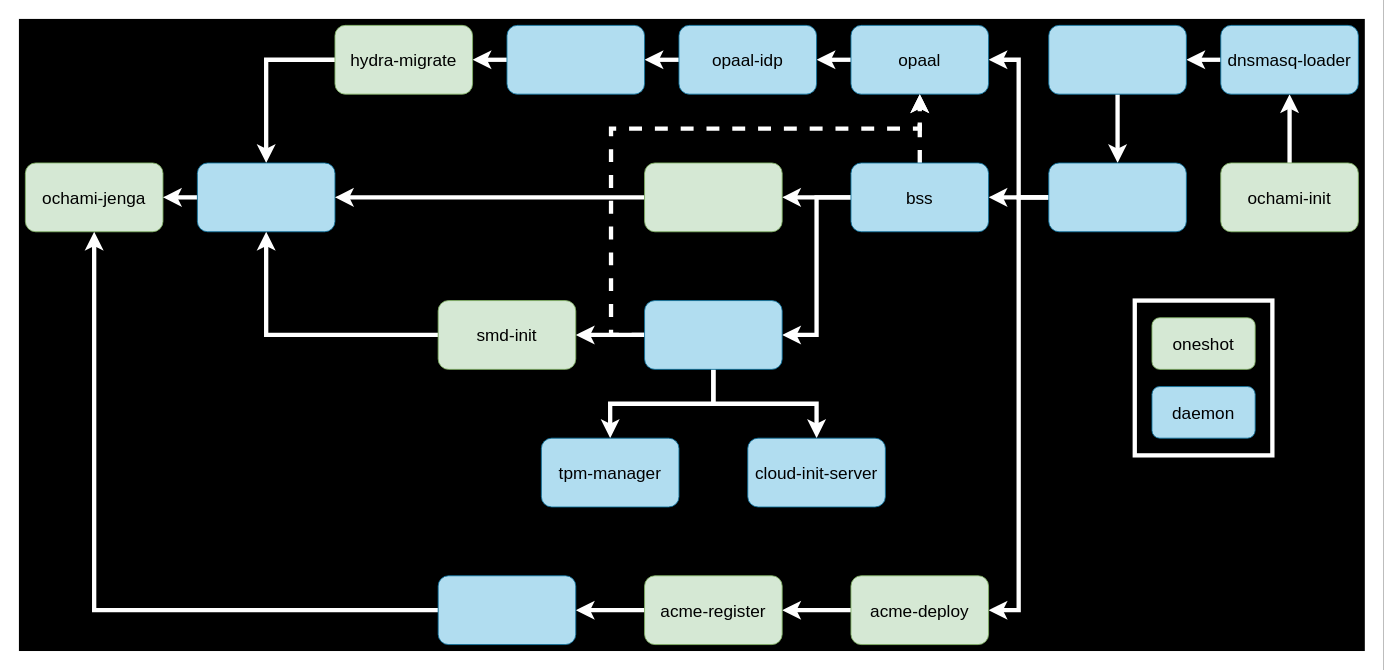
Image size: 1384x670. Some labels were removed from this diagram. Here are the shapes that lost their labels. From the top down, the centre of each, then its label:
At point 575,59: "hydra".
At point 1117,59: "dnsmasq".
At point 266,197: "postgres".
At point 713,197: "bss-init".
At point 1117,197: "haproxy".
At point 713,334: "smd".
At point 506,610: "step-ca".
